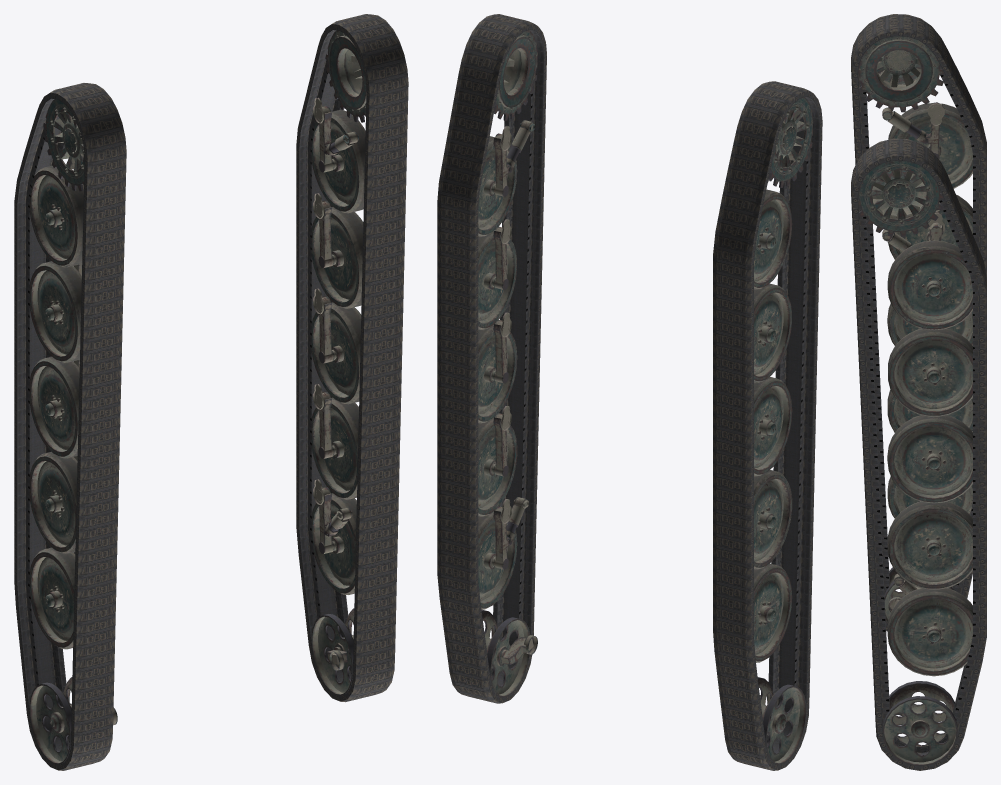
Rendered from Chassis.glb.
3 renders of one model, left to right at view 1: azimuth 30°, elevation 25°; view 2: azimuth 150°, elevation 25°; view 3: azimuth 270°, elevation 25°, orthographic. The views are drawn at different scales.
Parts seen in each view (by area): view 1: set_1_group_0, set_0_group_0, set_3_group_0, set_2_group_0; view 2: set_1_group_0, set_0_group_0, set_3_group_0, set_2_group_0; view 3: set_3_group_0, set_0_group_0, set_2_group_0, set_1_group_0.
Part boxes in pixels (x1,y1,x2,y2): set_1_group_0: [14, 83, 126, 770]; set_0_group_0: [296, 14, 408, 702]; set_3_group_0: [311, 30, 366, 695]; set_2_group_0: [29, 99, 117, 764]; set_1_group_0: [713, 81, 822, 770]; set_0_group_0: [437, 14, 546, 703]; set_3_group_0: [478, 30, 537, 697]; set_2_group_0: [754, 97, 813, 764]; set_3_group_0: [858, 160, 972, 766]; set_0_group_0: [851, 138, 986, 770]; set_2_group_0: [858, 36, 972, 623]; set_1_group_0: [851, 14, 986, 631].
Size of the model in its own units: 2.42 by 4.9 by 0.9763.
4 materials, 4 textured.
